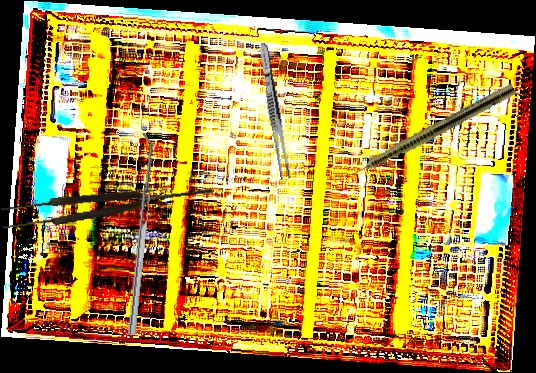Dressing Forceps: (256, 41, 293, 181)
Handpiece: (334, 80, 518, 188)
Spatula Surgical: (120, 132, 157, 336)
Tissue Forceps: (0, 178, 215, 232)
